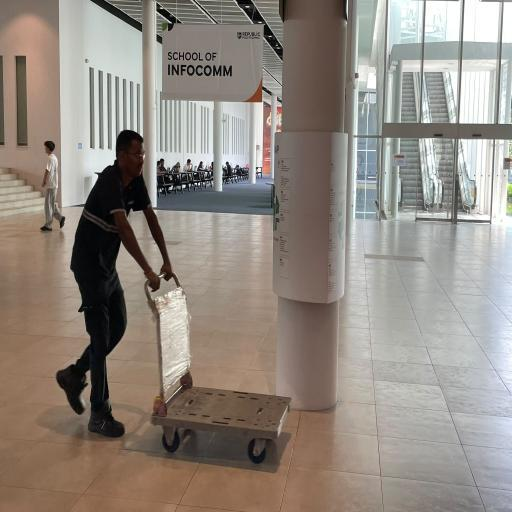person_right: (50, 96, 294, 464)
